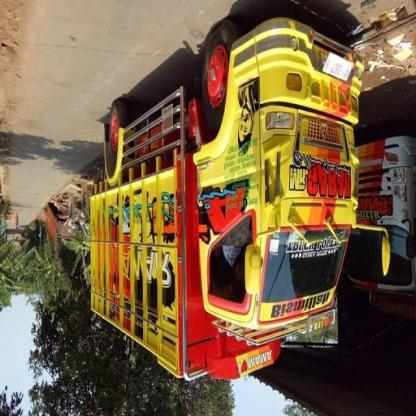truck: (89, 18, 391, 387)
